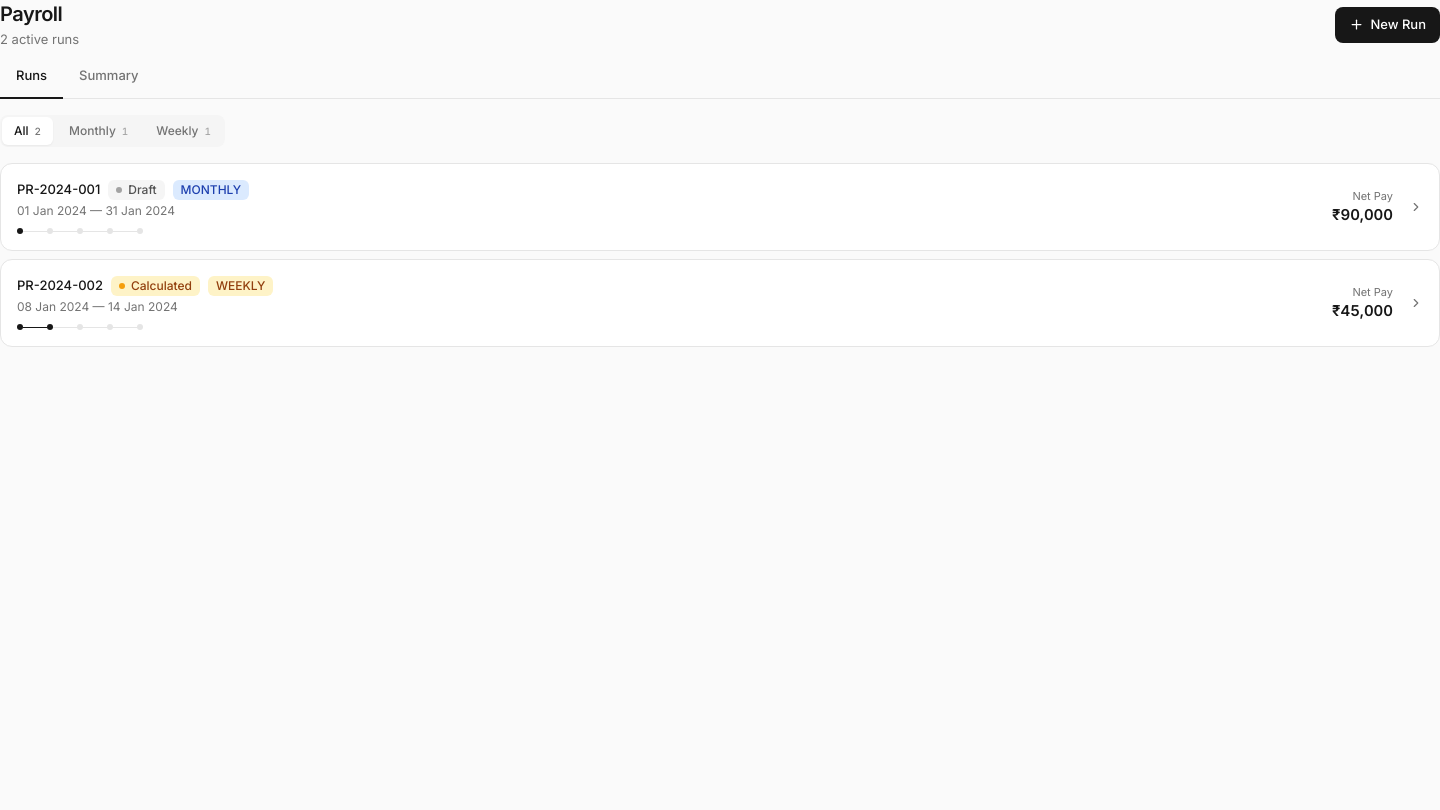
Test: PayrollPage › opens create run modal when New Run is clicked
Click the button "New Run" at (1388, 25), box [1335,7,1439,43]
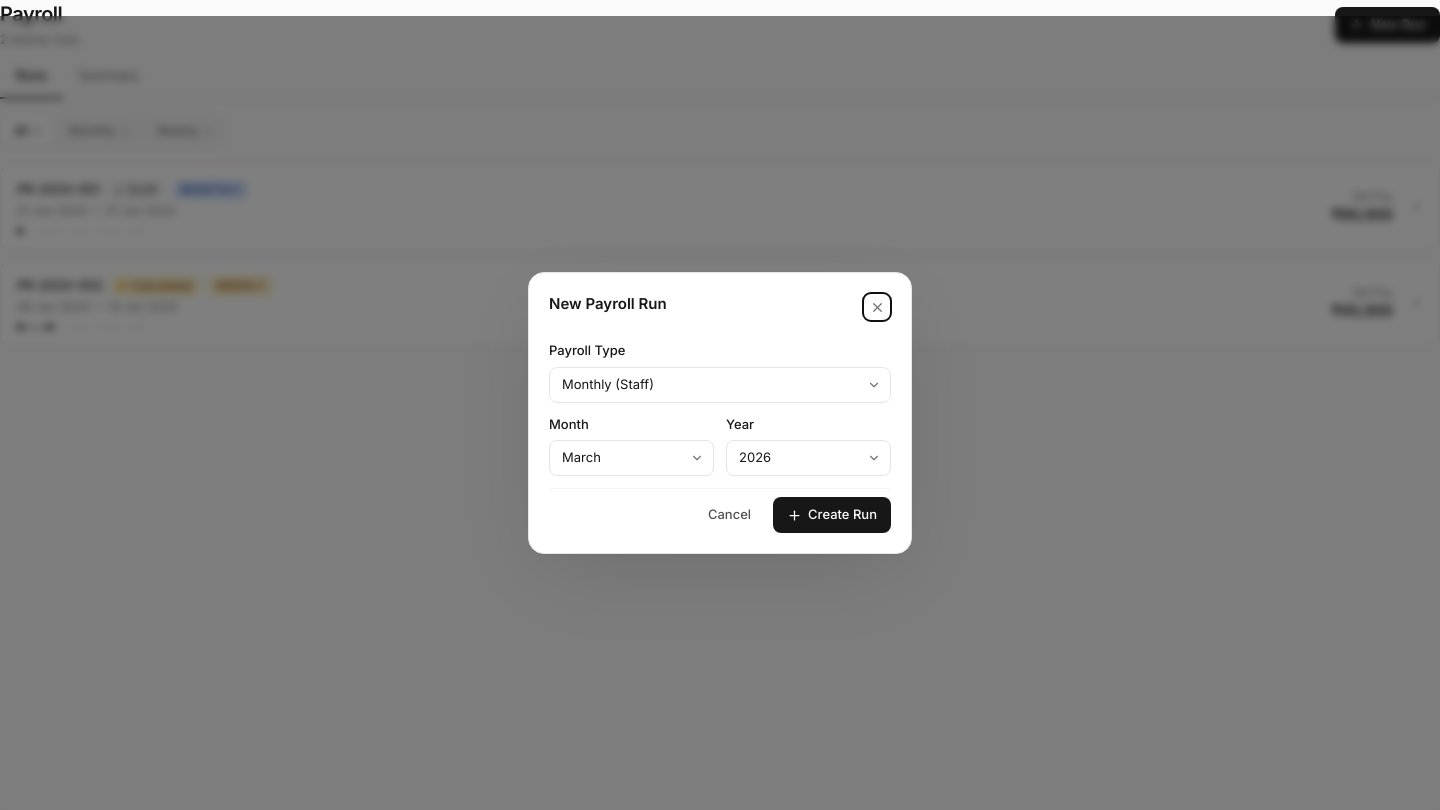
Check: the heading "New Payroll Run" is shown, box [549,293,667,316]
